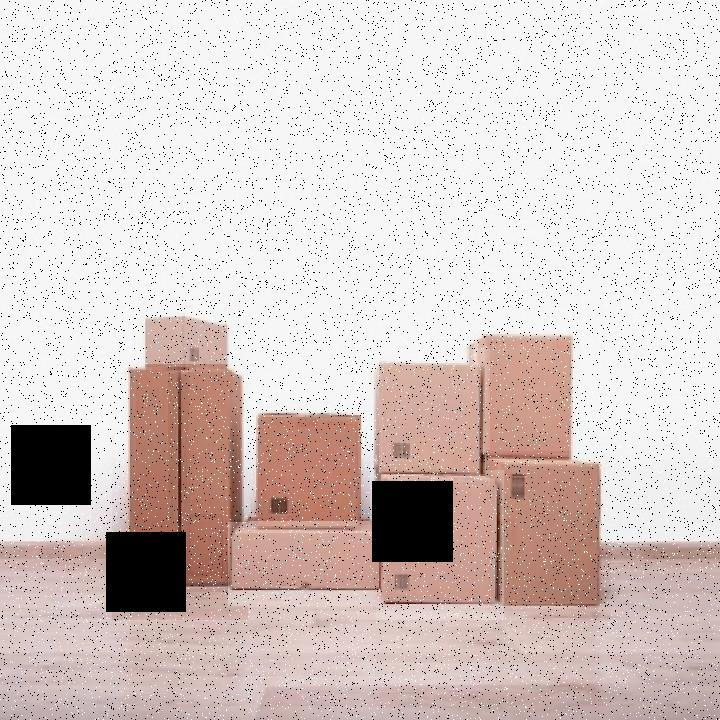box: (112, 364, 248, 620), (486, 451, 611, 622), (376, 470, 505, 620), (469, 324, 580, 469), (248, 393, 370, 524), (372, 349, 490, 480), (228, 522, 376, 606), (132, 289, 228, 383)
